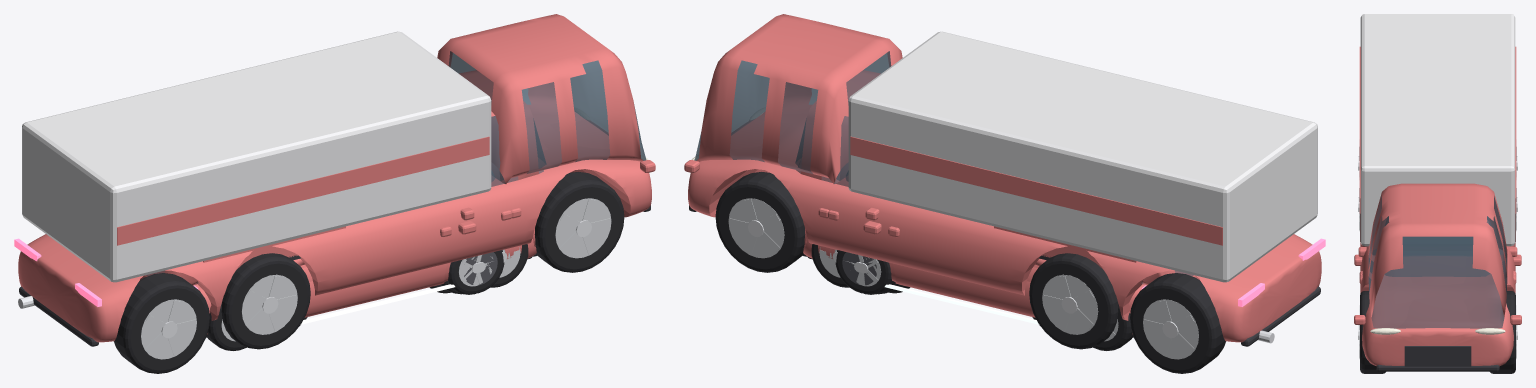
Rendered from cars_traffic.fbx.
3 renders of one model, left to right at view 1: azimuth 30°, elevation 25°; view 2: azimuth 150°, elevation 25°; view 3: azimuth 270°, elevation 25°, orthographic. The views are drawn at different scales.
Parts seen in each view (by area): view 1: Cargo, Body.009, Tire.009, Rim.009, Glass.009, Body.006, Body.004, Tire.004, Glass.004, Body.007, Chrome.009, Neon (+3 smaller); view 2: Cargo, Body.009, Tire.009, Rim.009, Glass.009, Body.006, Body.004, Tire.004, Body.007, Glass.004, Chrome.009, Neon (+3 smaller); view 3: Cargo, Body.009, Glass.009, Glass.004, Trim.009, Tire.009, HeadLight.009, Rim.009, Chrome.009, Body.010.
Boxes of the visible parts, bbox=[...] form: Cargo: bbox=[22, 31, 491, 282]; Body.009: bbox=[18, 14, 655, 342]; Tire.009: bbox=[114, 172, 624, 373]; Rim.009: bbox=[141, 198, 611, 359]; Glass.009: bbox=[448, 51, 646, 183]; Body.006: bbox=[300, 222, 509, 317]; Body.004: bbox=[140, 70, 538, 310]; Tire.004: bbox=[206, 244, 528, 350]; Glass.004: bbox=[146, 116, 546, 284]; Body.007: bbox=[194, 207, 474, 312]; Chrome.009: bbox=[18, 220, 591, 338]; Neon: bbox=[300, 284, 455, 324]; Cargo: bbox=[848, 31, 1317, 282]; Body.009: bbox=[684, 14, 1321, 342]; Tire.009: bbox=[715, 172, 1225, 373]; Rim.009: bbox=[728, 198, 1198, 359]; Glass.009: bbox=[694, 51, 891, 183]; Body.006: bbox=[830, 222, 1039, 317]; Body.004: bbox=[801, 70, 1199, 310]; Tire.004: bbox=[811, 244, 1133, 350]; Body.007: bbox=[865, 207, 1145, 312]; Glass.004: bbox=[795, 116, 1193, 284]; Chrome.009: bbox=[748, 220, 1274, 343]; Neon: bbox=[884, 284, 1039, 324]; Cargo: bbox=[1360, 14, 1515, 246]; Body.009: bbox=[1354, 46, 1521, 365]; Glass.009: bbox=[1368, 196, 1507, 328]; Glass.004: bbox=[1385, 216, 1490, 276]; Trim.009: bbox=[1376, 346, 1499, 371]; Tire.009: bbox=[1360, 214, 1515, 373]; HeadLight.009: bbox=[1370, 328, 1505, 334]; Rim.009: bbox=[1359, 139, 1516, 358]; Chrome.009: bbox=[1358, 156, 1517, 339]; Body.010: bbox=[1354, 256, 1521, 265].
Size of the model in its own units: 2660 by 880 by 807.
